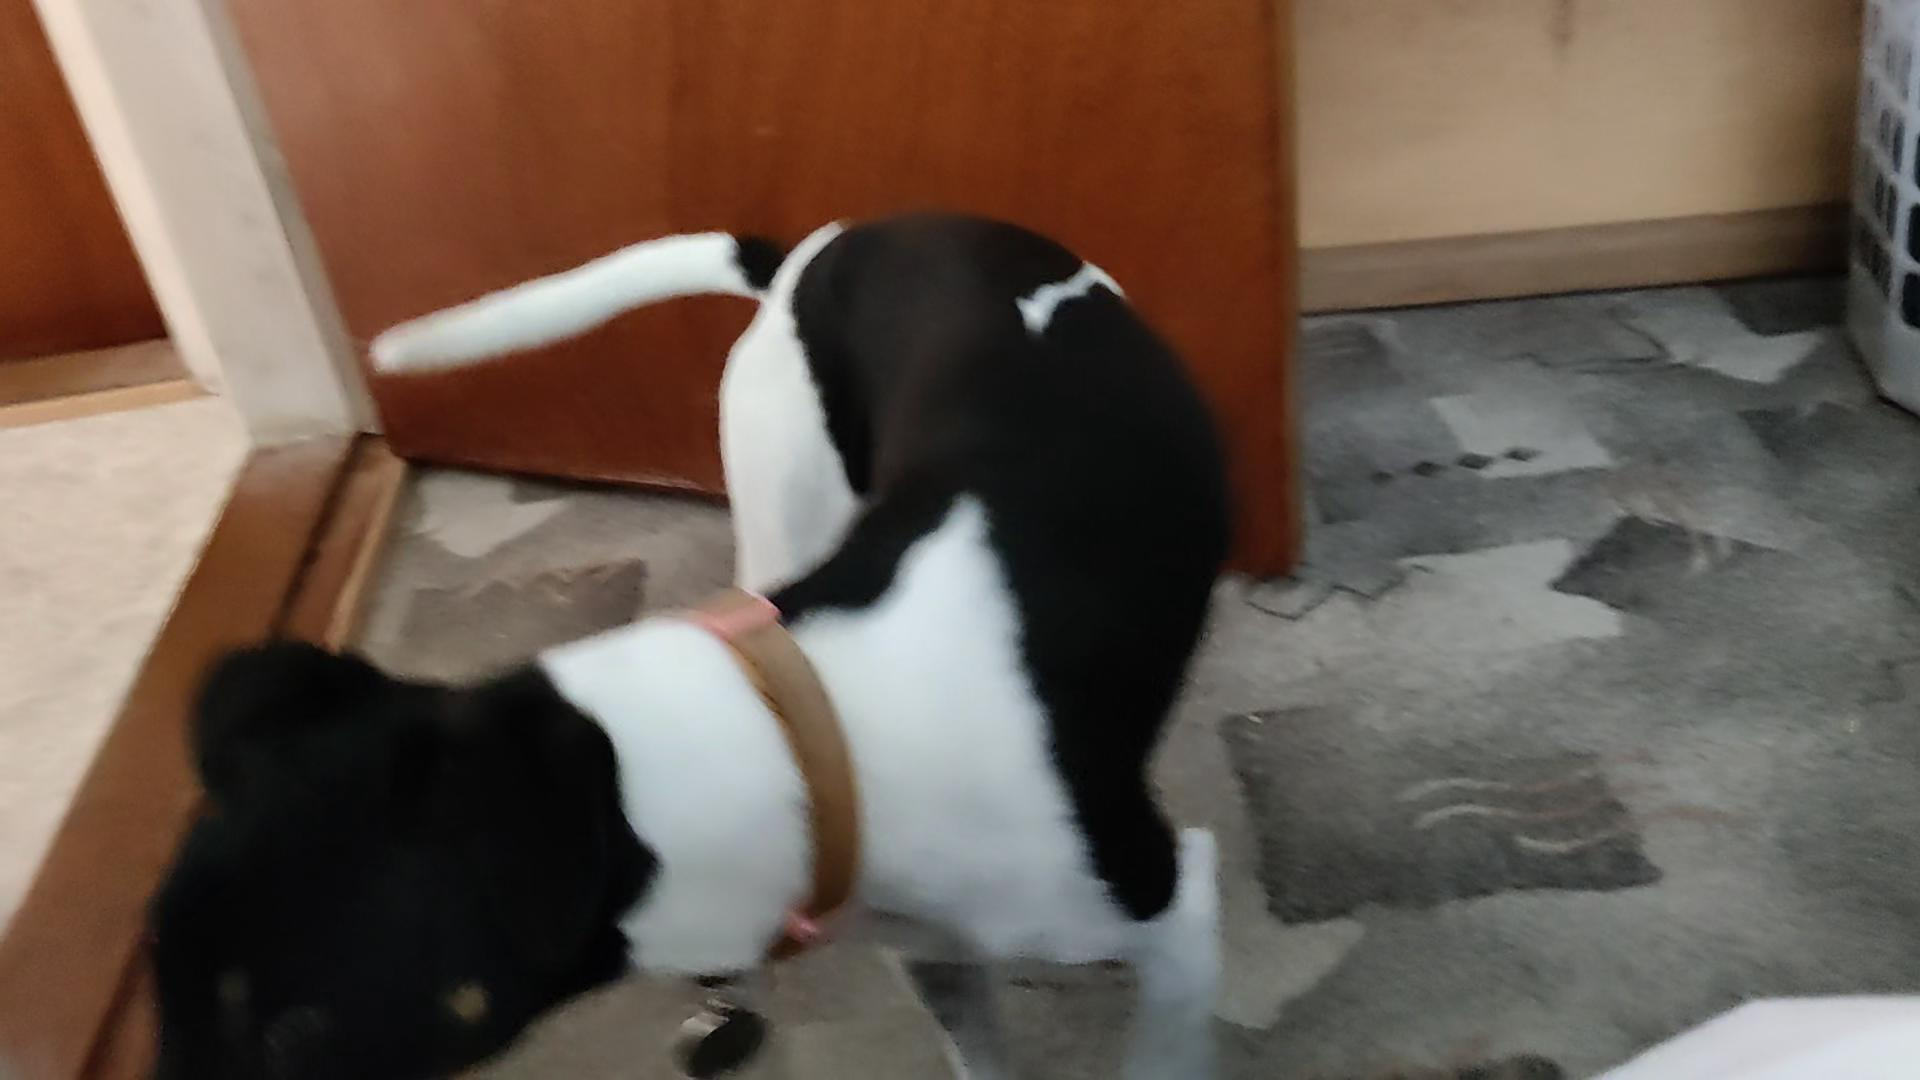Dog: (109, 208, 1266, 1079)
